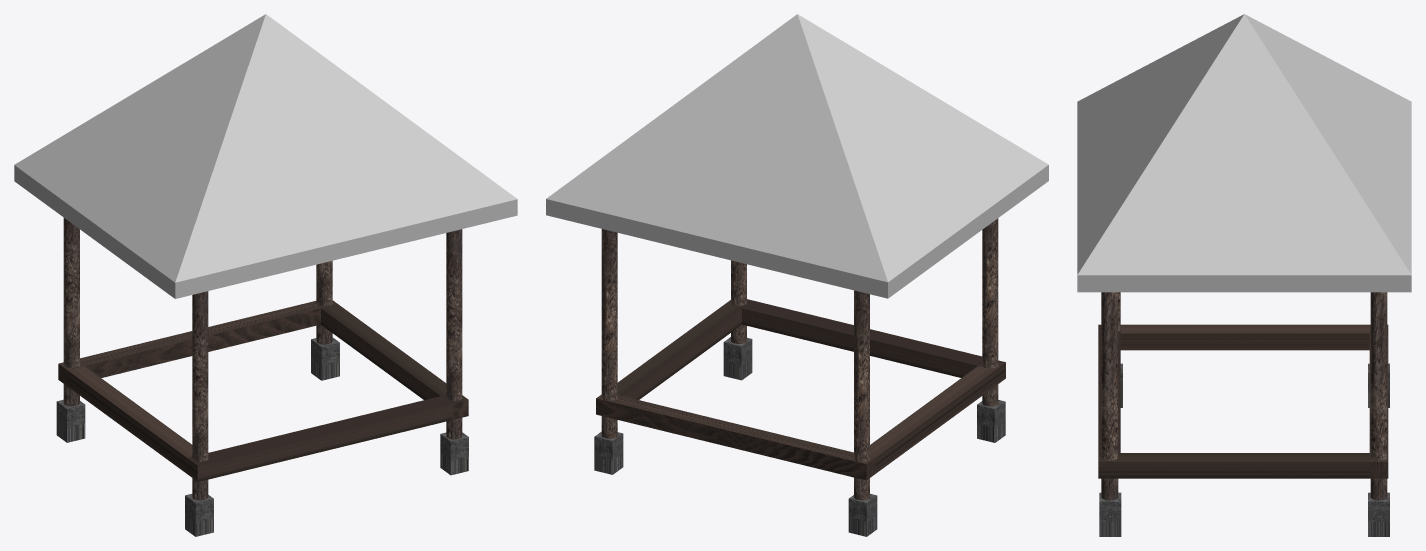
Rendered from Tempat Prasasti.fbx.
The picture shows the model from 3 angles, left to right: view 1: azimuth 30°, elevation 25°; view 2: azimuth 150°, elevation 25°; view 3: azimuth 270°, elevation 25°; orthographic projection. The views are drawn at different scales.
Parts seen in each view (by area): view 1: Atap, Kotak yang melingkari, pilar4, pilar2, pilar1, pondasi3, pondasi4, pondasi2, pondasi1, pilar3; view 2: Atap, Kotak yang melingkari, pilar3, pilar1, pilar2, pondasi2, pondasi3, pondasi1, pondasi4, pilar4; view 3: Atap, Kotak yang melingkari, pilar4, pilar3, pondasi1, pondasi2.
Boxes of the visible parts, bbox=[...] form: Atap: bbox=[14, 14, 517, 298]; Kotak yang melingkari: bbox=[58, 300, 468, 481]; pilar4: bbox=[446, 229, 462, 439]; pilar2: bbox=[192, 291, 208, 500]; pilar1: bbox=[63, 218, 79, 406]; pondasi3: bbox=[56, 399, 85, 442]; pondasi4: bbox=[185, 494, 213, 536]; pondasi2: bbox=[311, 337, 339, 380]; pondasi1: bbox=[440, 432, 468, 475]; pilar3: bbox=[316, 261, 332, 344]; Atap: bbox=[546, 14, 1048, 298]; Kotak yang melingkari: bbox=[596, 299, 1005, 480]; pilar3: bbox=[601, 229, 617, 438]; pilar1: bbox=[854, 290, 869, 500]; pilar2: bbox=[982, 218, 998, 406]; pondasi2: bbox=[594, 431, 623, 474]; pondasi3: bbox=[848, 493, 877, 536]; pondasi1: bbox=[723, 337, 752, 380]; pondasi4: bbox=[977, 400, 1005, 442]; pilar4: bbox=[731, 260, 746, 343]; Atap: bbox=[1077, 14, 1411, 292]; Kotak yang melingkari: bbox=[1098, 324, 1388, 478]; pilar4: bbox=[1101, 292, 1118, 500]; pilar3: bbox=[1370, 292, 1387, 500]; pondasi1: bbox=[1099, 492, 1121, 536]; pondasi2: bbox=[1368, 492, 1389, 536].
Bounding box in the file's own units: 2.53 × 3.1 × 2.06.
